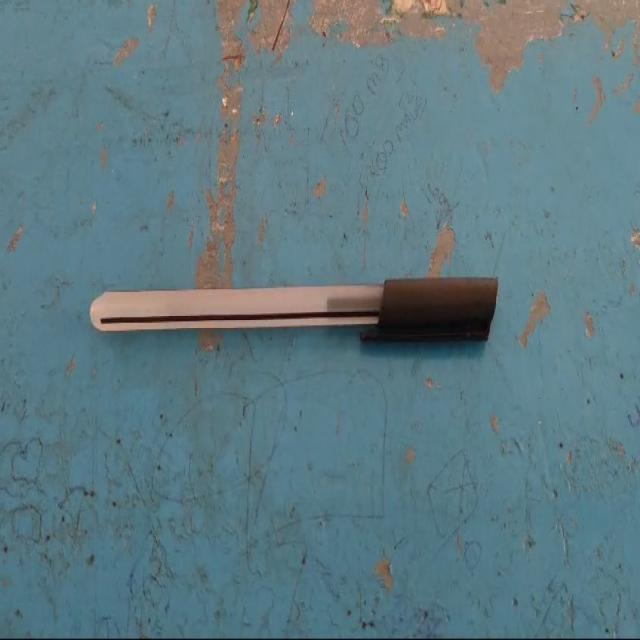pen: (42, 199, 580, 459)
